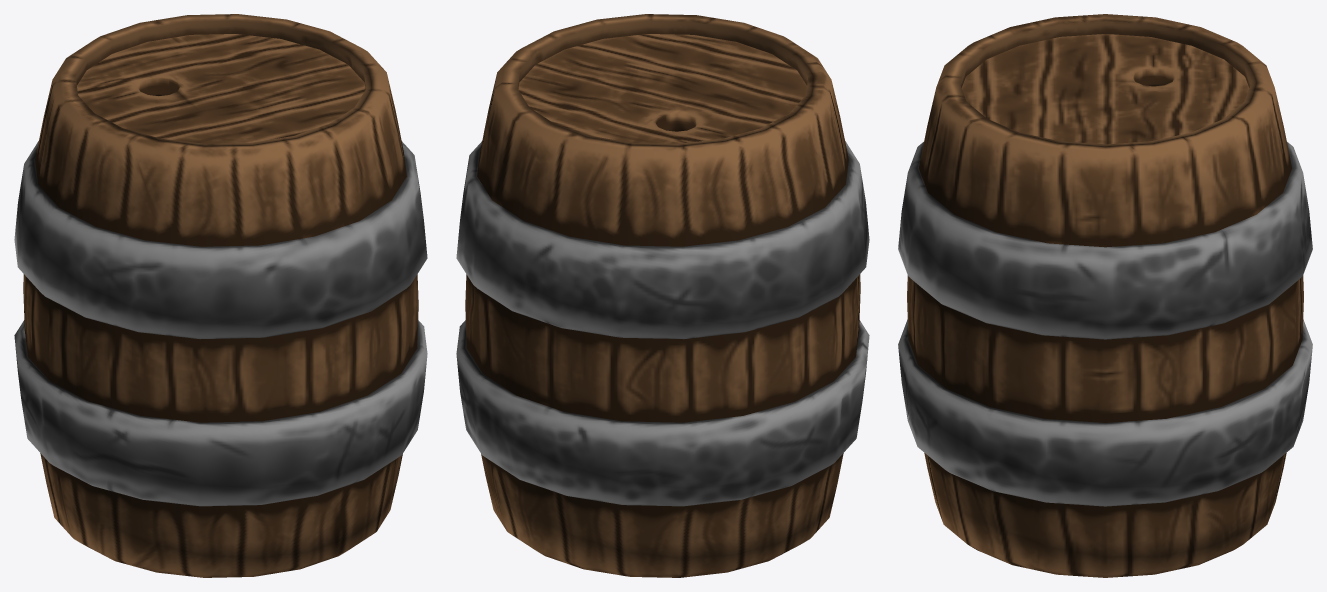
The model's file is Barrel_with_lid.fbx.
3 renders of one model, left to right at view 1: azimuth 30°, elevation 25°; view 2: azimuth 150°, elevation 25°; view 3: azimuth 270°, elevation 25°, orthographic.
Visible parts, largest first — view 1: Barrel_with_lid; view 2: Barrel_with_lid; view 3: Barrel_with_lid.
Part boxes in pixels (x1,y1,x2,y2): Barrel_with_lid: [14, 14, 427, 577]; Barrel_with_lid: [456, 14, 869, 577]; Barrel_with_lid: [898, 14, 1312, 577].
Bounding box in the file's own units: 1.14 × 1.3 × 1.14.
